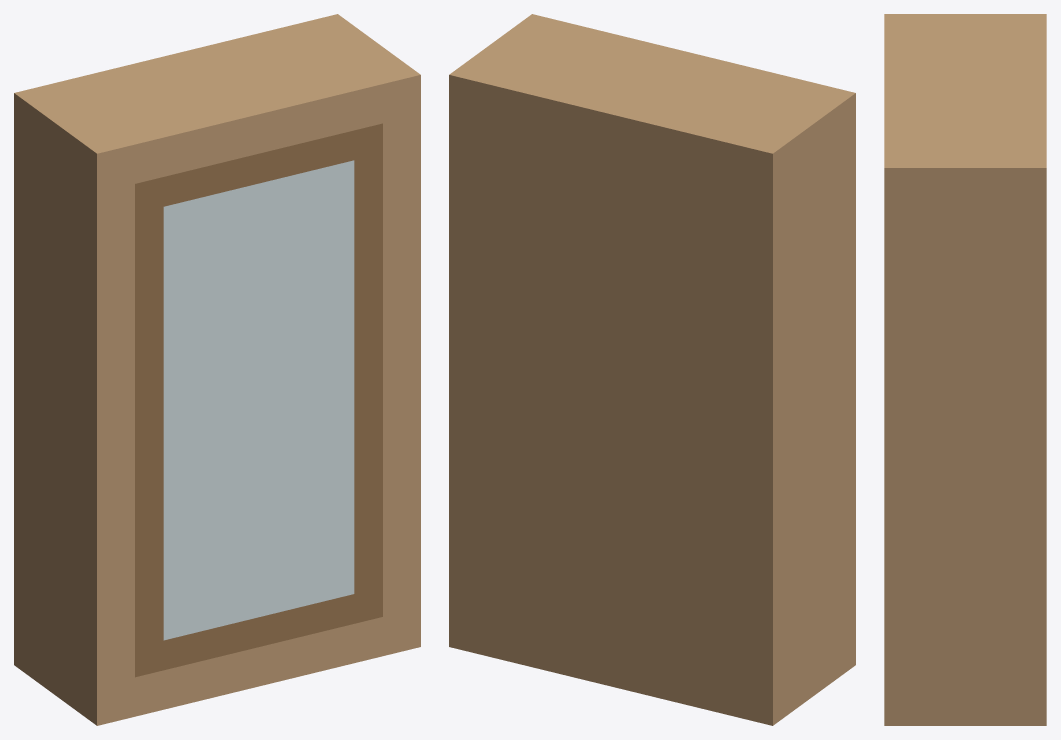
File: bathroom-cabinet.glb
The picture shows the model from 3 angles, left to right: view 1: azimuth 30°, elevation 25°; view 2: azimuth 150°, elevation 25°; view 3: azimuth 270°, elevation 25°; orthographic projection. The views are drawn at different scales.
Parts seen in each view (by area): view 1: bathroom-cabinet; view 2: bathroom-cabinet; view 3: bathroom-cabinet.
Boxes of the visible parts, x1,y1,x2,y2 form: bathroom-cabinet: (14,14,420,725); bathroom-cabinet: (449,14,855,725); bathroom-cabinet: (884,14,1046,725).
Size of the model in its own units: 0.45 by 0.76 by 0.2.
